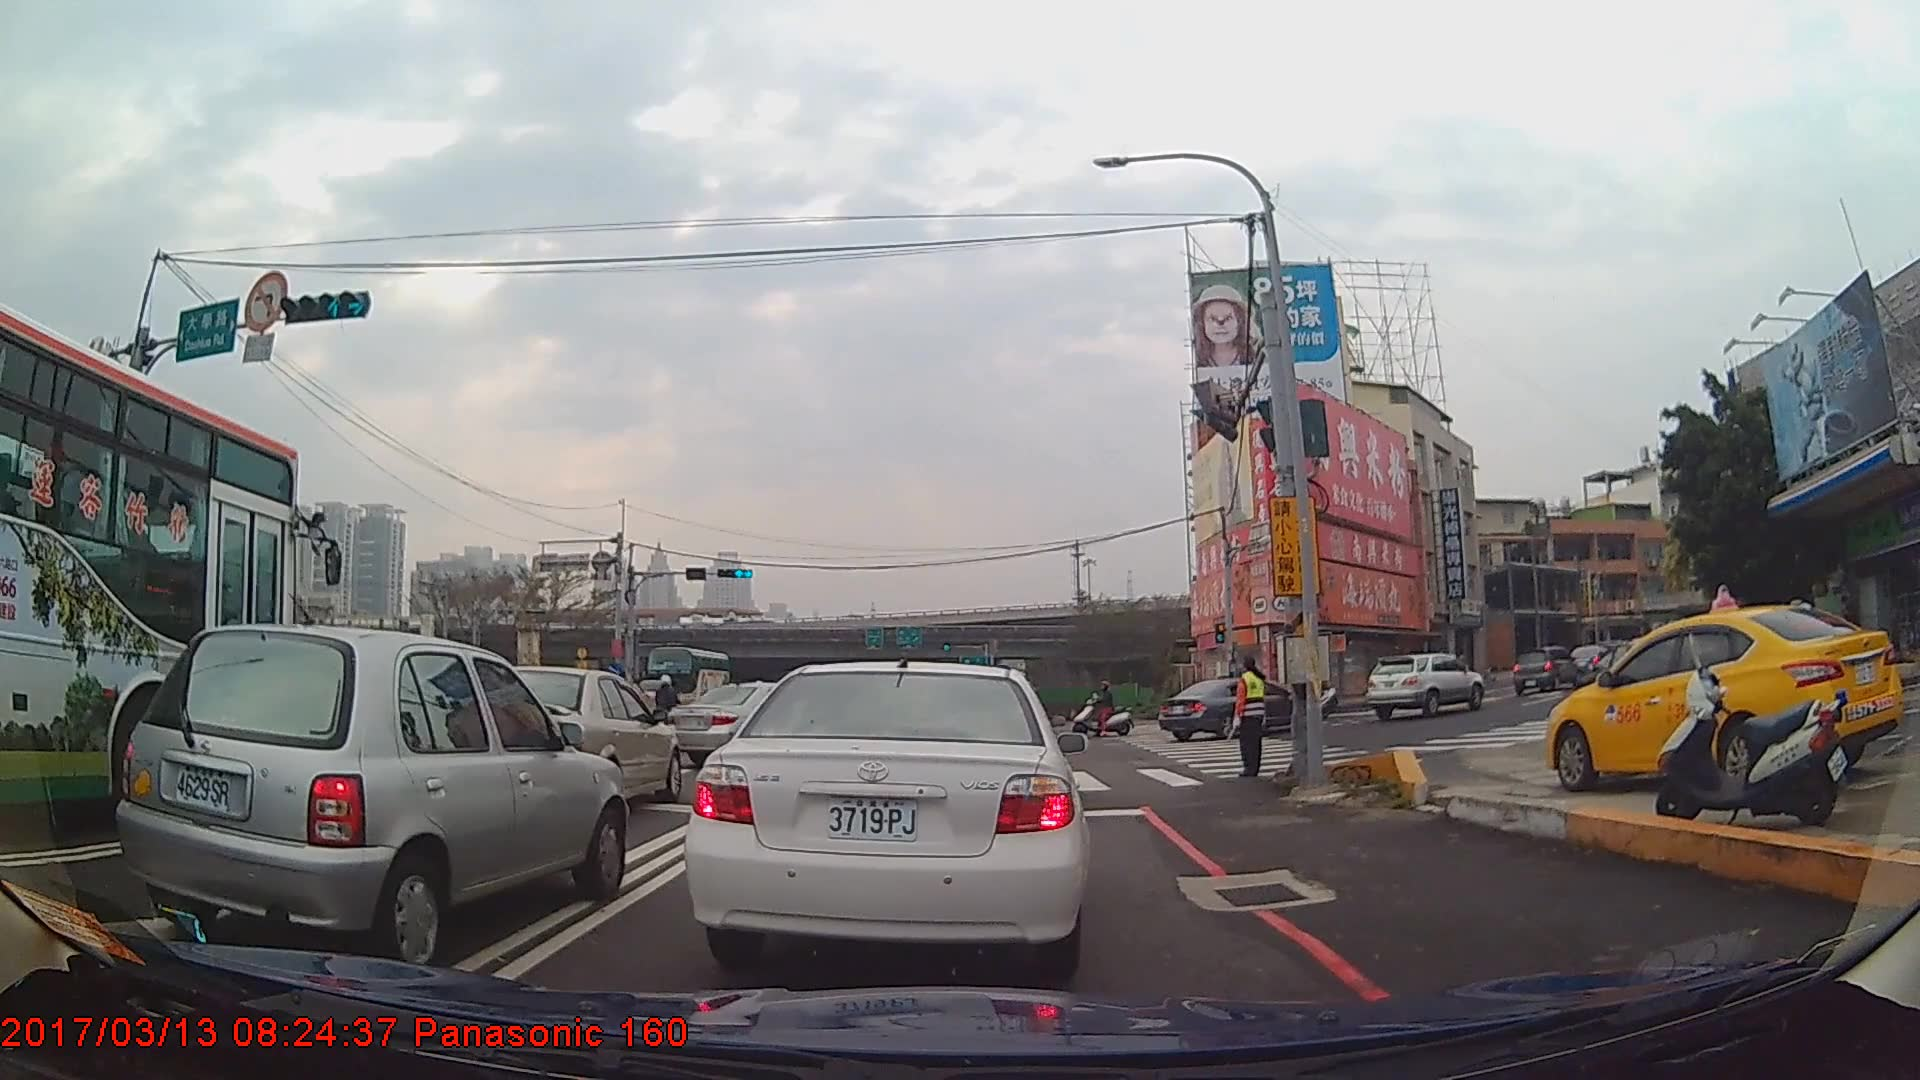pedestrian: (1221, 657, 1269, 776)
rider: (1074, 681, 1136, 740), (653, 676, 682, 743)
vehicle: (113, 623, 629, 971), (0, 297, 293, 841), (682, 655, 1087, 975), (1544, 603, 1900, 793), (455, 663, 682, 822), (664, 679, 851, 768), (1158, 674, 1312, 742), (1367, 651, 1483, 719), (645, 645, 730, 706), (1509, 647, 1579, 694)
